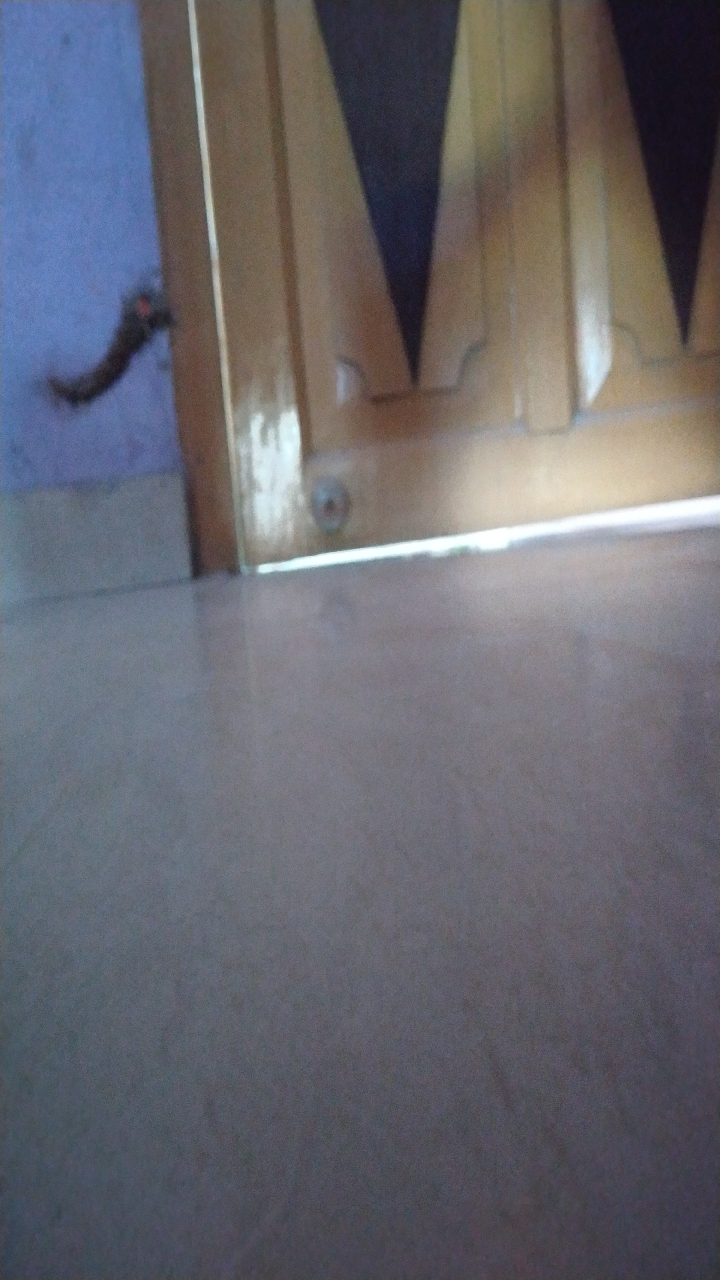Doors: (155, 69, 720, 589)
